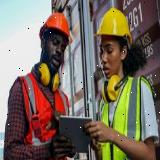Helmet: (93, 7, 132, 43), (39, 12, 73, 44)
Vest: (8, 71, 68, 160), (98, 74, 153, 160)
